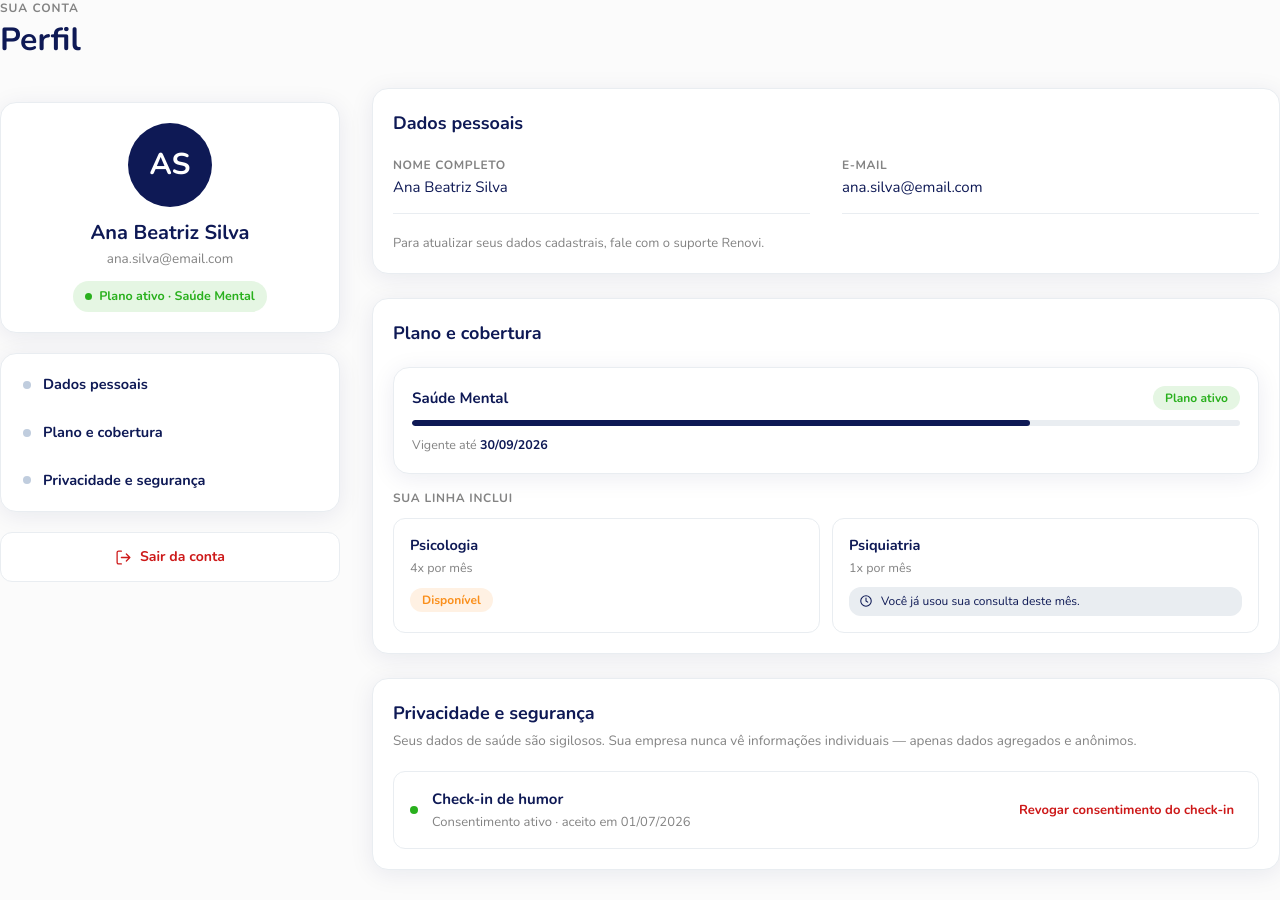
it: ProfilePage › mostra erro visível quando a revogação falha
Click the button "Revogar consentimento do check-in" at [1126, 810], box top-left (1011, 796), bottom-right (1242, 824)
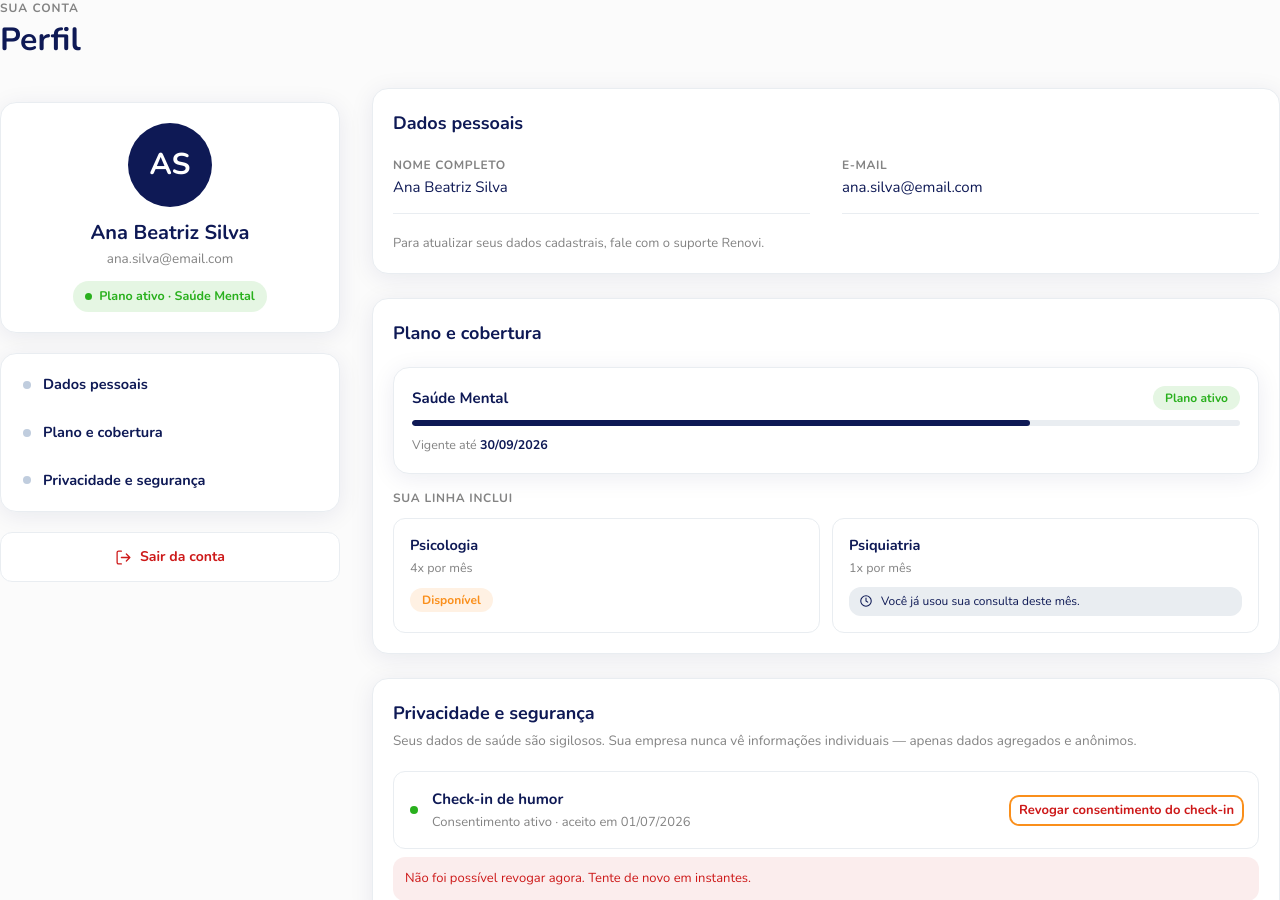
Now the message shows "Não foi possível revogar", box top-left (405, 869), bottom-right (751, 887)
